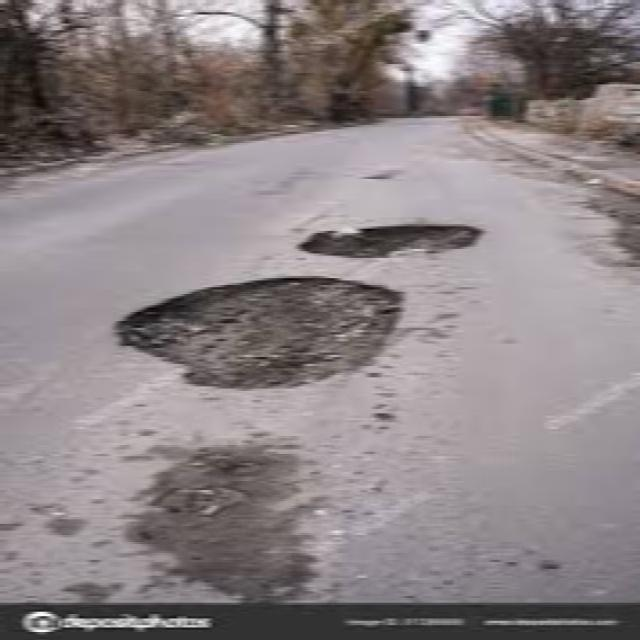Pothole: (106, 271, 414, 401), (284, 212, 496, 264), (358, 163, 405, 187)
